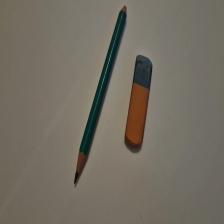eraser: (125, 55, 154, 148)
pencil: (75, 6, 128, 185)
